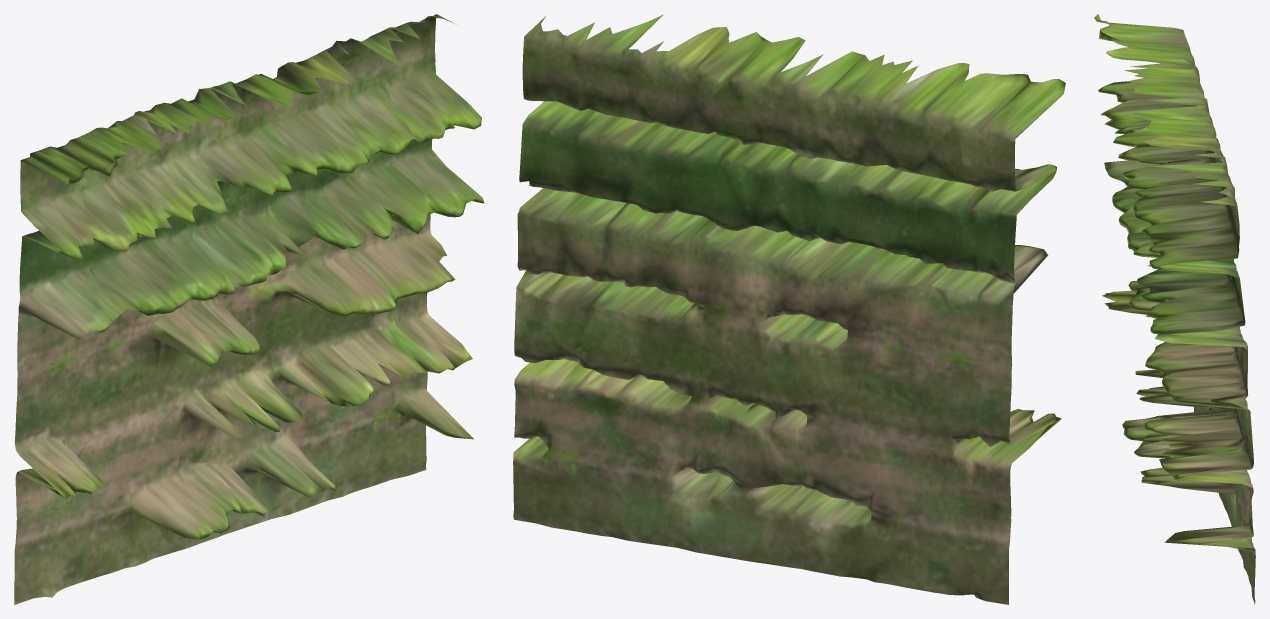
The model's file is map_140_50.obj.
3 views of the same model, side by side, from view 1: azimuth 30°, elevation 25°; view 2: azimuth 150°, elevation 25°; view 3: azimuth 270°, elevation 25° (orthographic). The views are drawn at different scales.
Bounding box in the file's own units: 10 × 10 × 3.64.
1 material, 1 textured.
